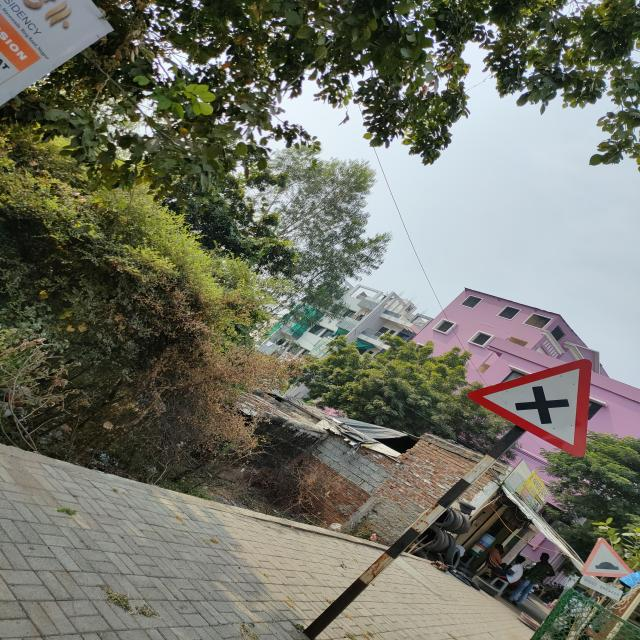cross_road: (467, 352, 596, 466)
